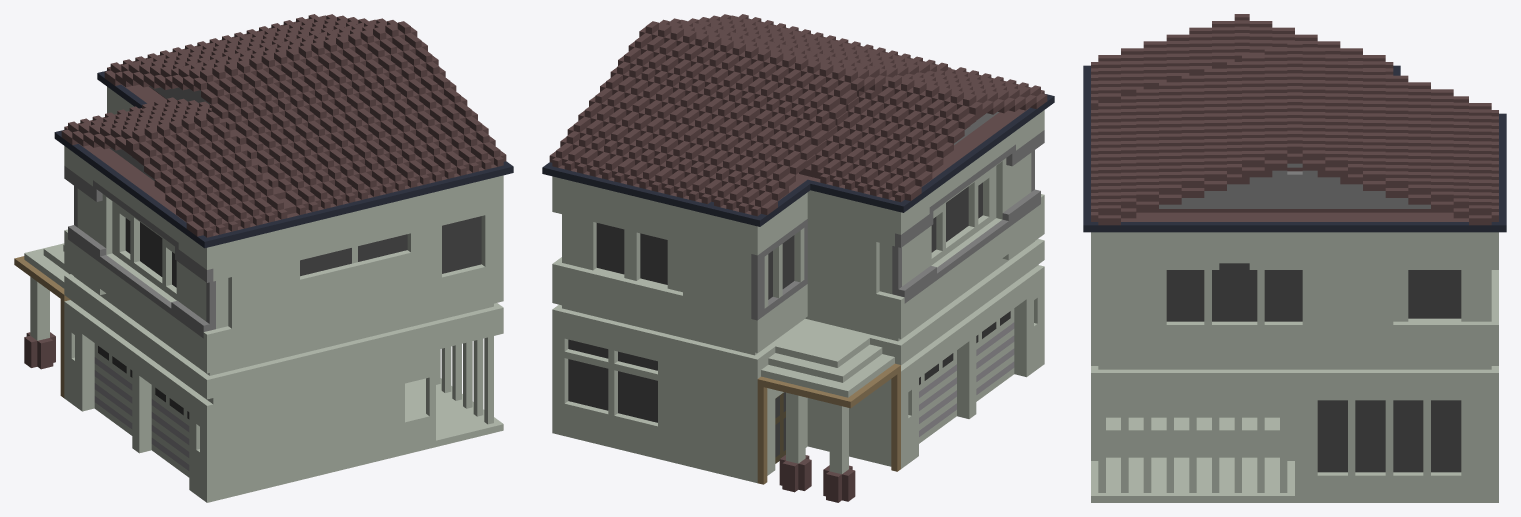
Rendered from Buildings Final For Import-2.obj.
The picture shows the model from 3 angles, left to right: view 1: azimuth 30°, elevation 25°; view 2: azimuth 150°, elevation 25°; view 3: azimuth 270°, elevation 25°; orthographic projection. The views are drawn at different scales.
Bounding box in the file's own units: 5 × 5.2 × 5.6.
Materials: 1 (1 with a texture image).
